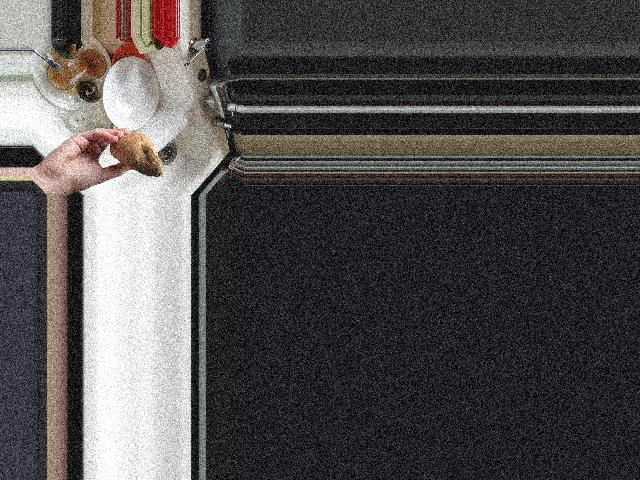sweet_potato: (110, 131, 163, 181)
